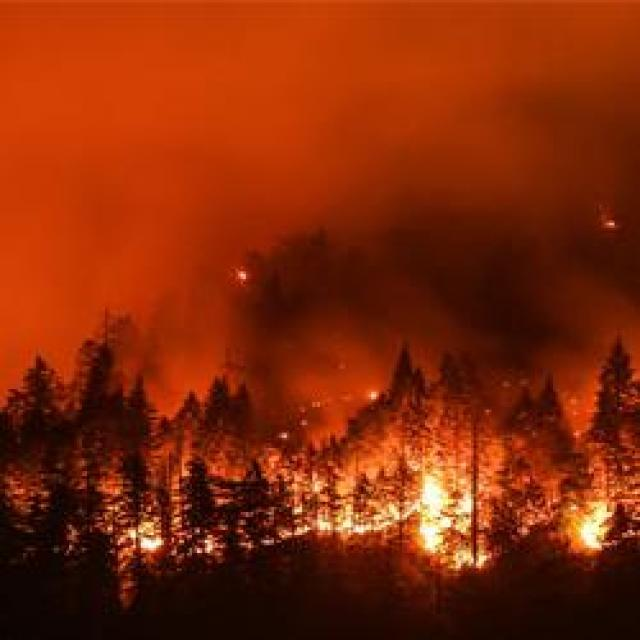Fire: (420, 468, 487, 582), (306, 498, 416, 540), (120, 503, 170, 566), (574, 498, 612, 553), (226, 262, 256, 292), (599, 210, 622, 230)
Smoke: (0, 0, 640, 415)
